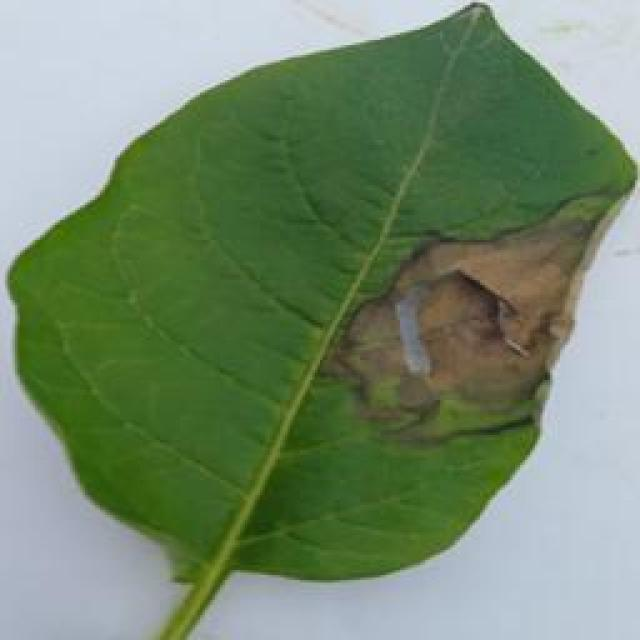Potato_Late_Blight: (12, 2, 626, 612)
